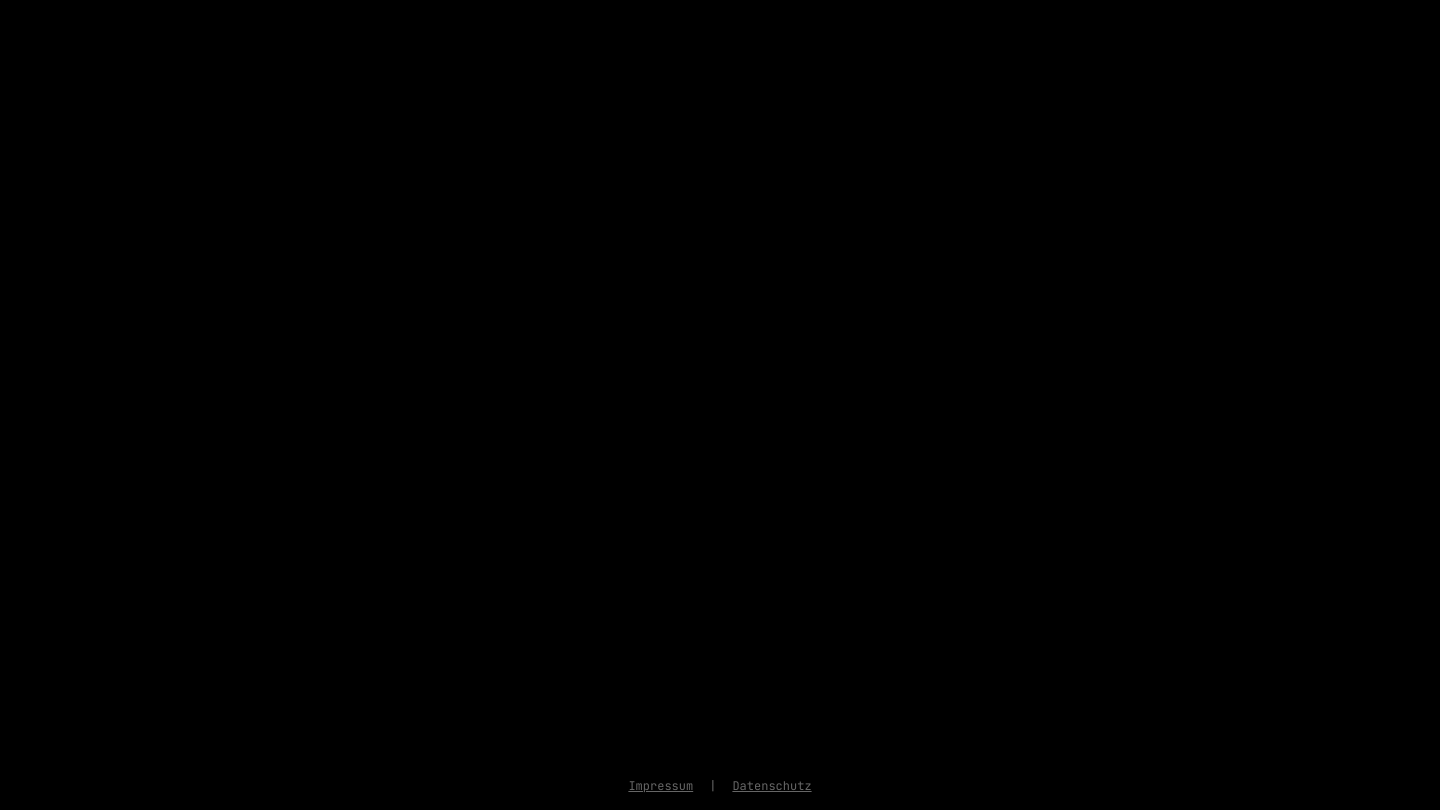
it: App — main menu arrow-key navigation › opens the existing load dialog through Spielstände
Press Enter
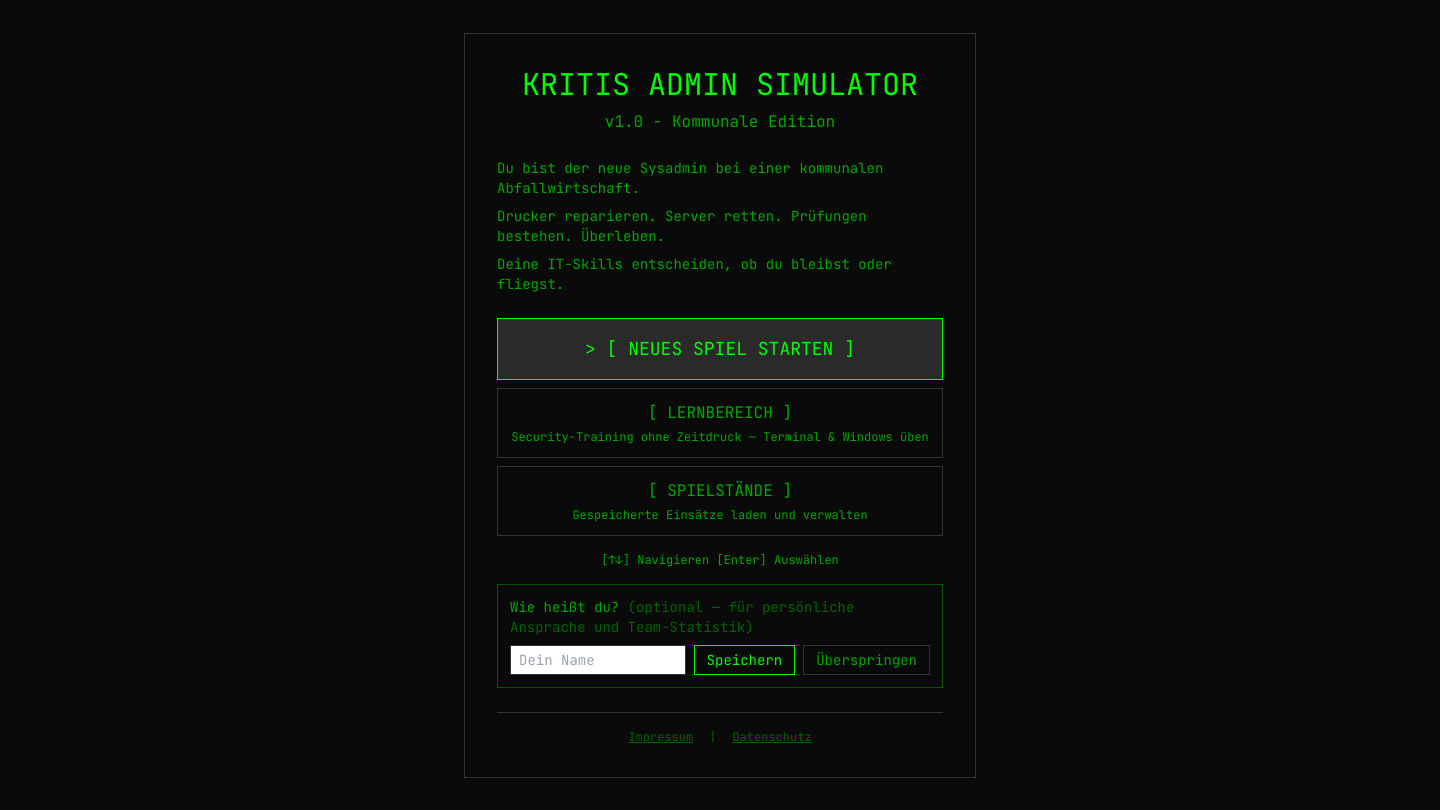
Click the button "[ SPIELSTÄNDE ] Gespeicherte Einsätze laden und verwalten": (720, 500) [497,466,943,536]
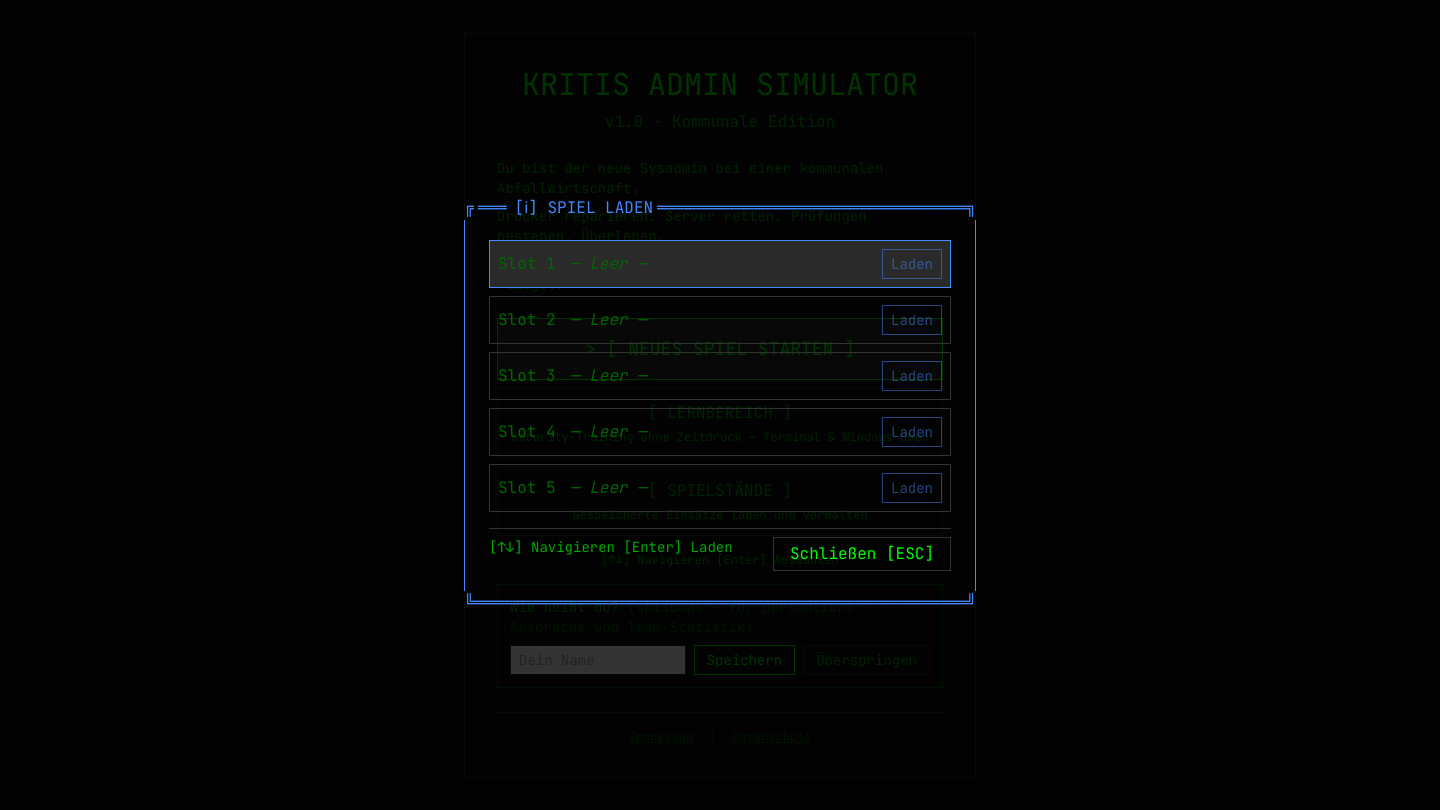
Expected: the text "Slot 1" is shown, [498,252,562,276]
Expected: the button "Schließen [ESC]" is shown, [773,536,951,570]
